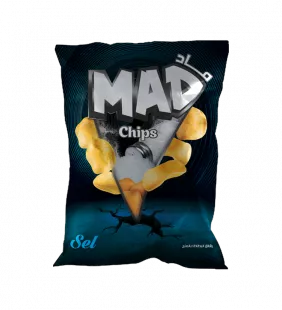MAD: (45, 35, 235, 276)
